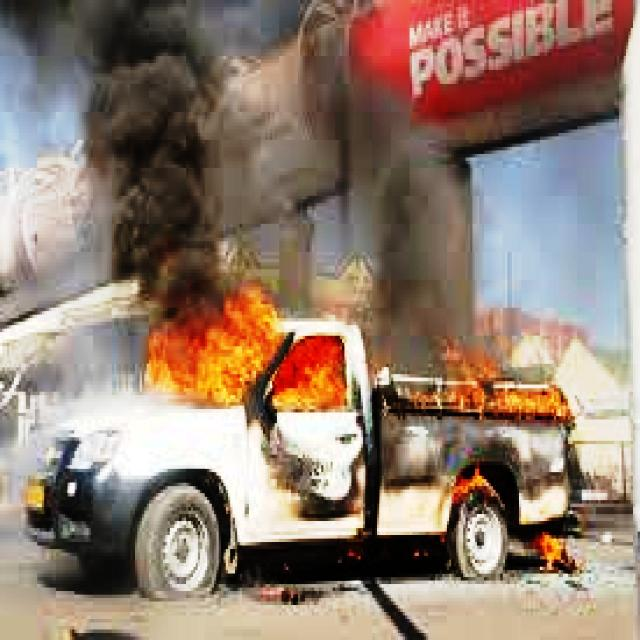api: (143, 284, 352, 417), (439, 347, 581, 428), (530, 512, 588, 578), (434, 456, 490, 519)
